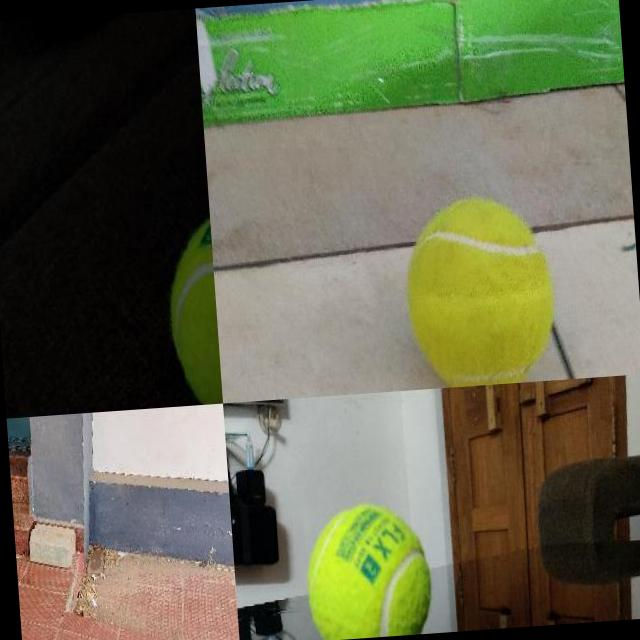Tennis Ball: (399, 191, 560, 389), (300, 498, 435, 640), (160, 198, 222, 406)
